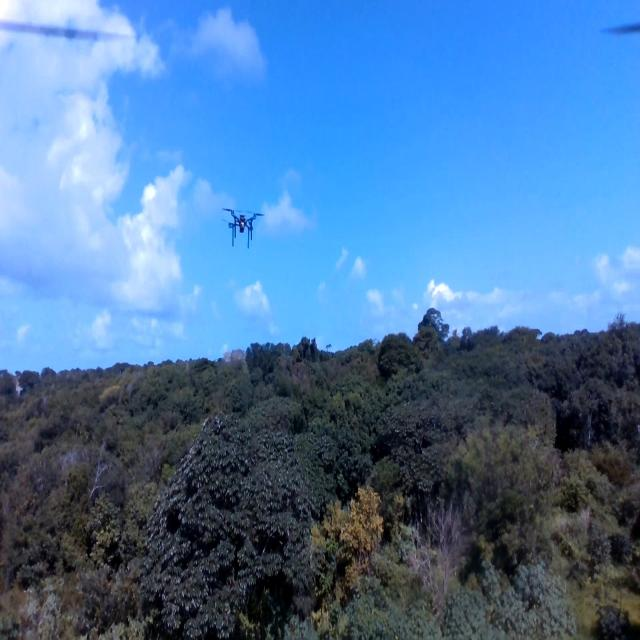-uav-: (218, 192, 268, 258)
